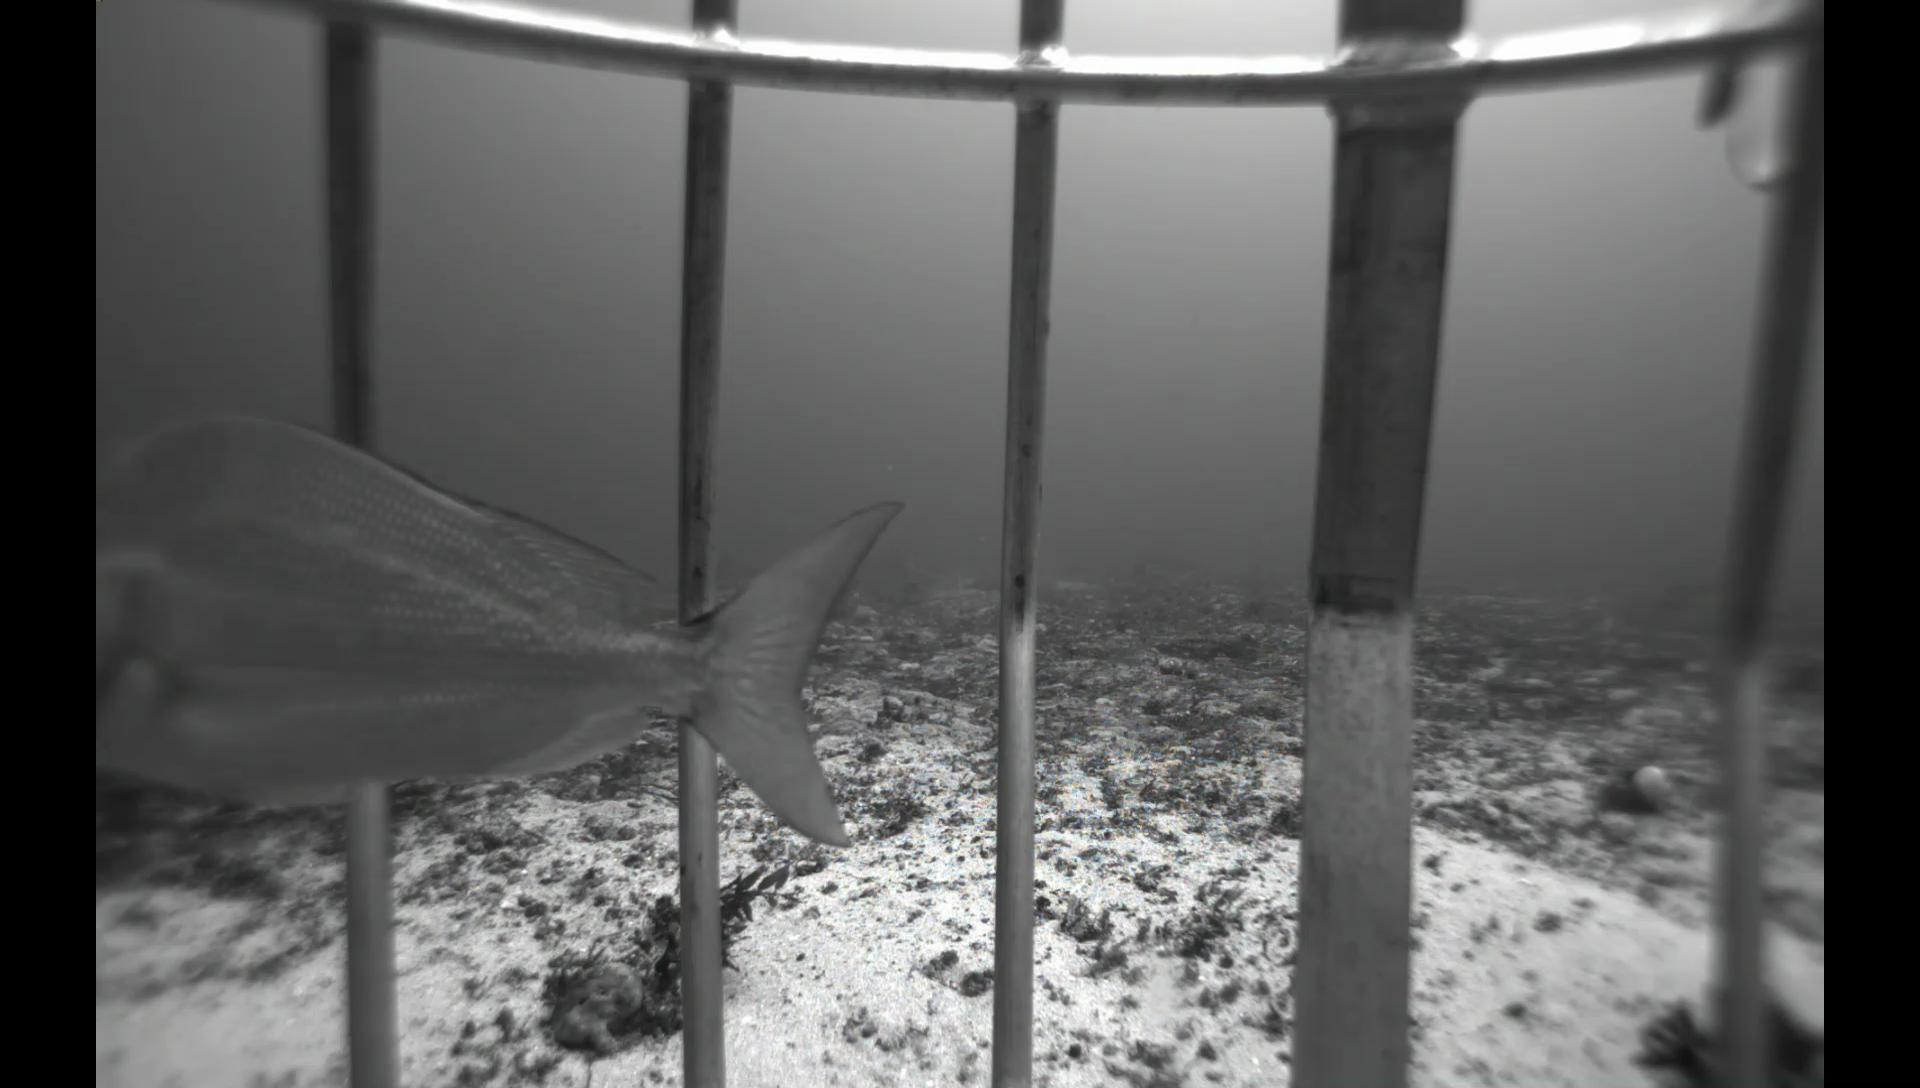CALAMUSPRORIDENS-170210605: (98, 396, 916, 869)
CHAETODONOCELLATUS-170260307: (1578, 608, 1622, 648)
